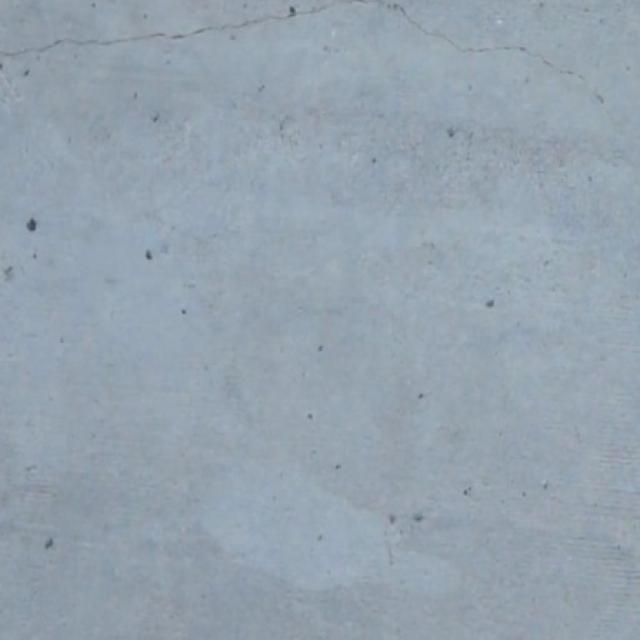Horizontal Crack: (0, 0, 614, 122)
